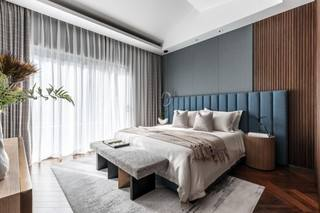床: (93, 126, 248, 196)
枕头: (171, 108, 243, 133)
